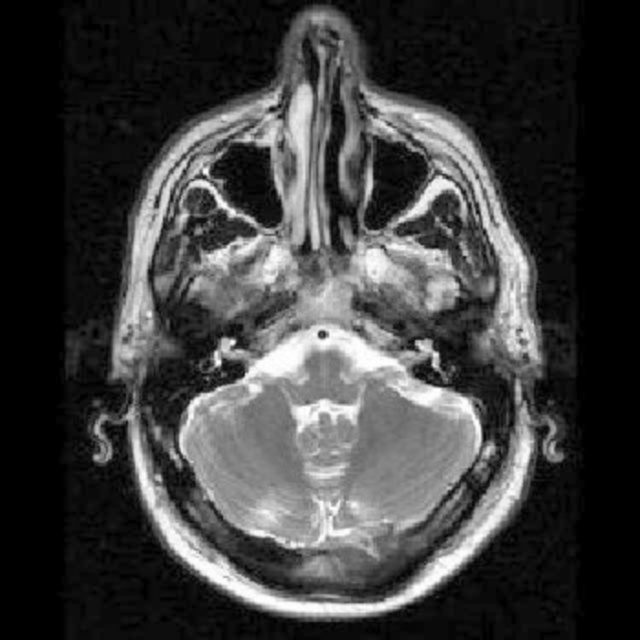glioma tumor: (196, 130, 479, 550)
